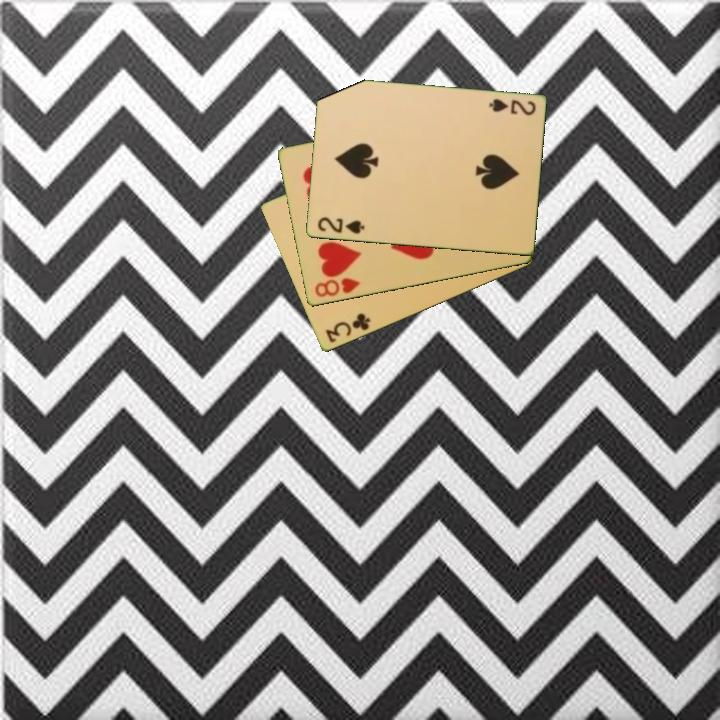2s: (485, 95, 538, 119), (314, 214, 367, 237)
3c: (322, 310, 373, 346)
8h: (311, 274, 363, 300)
